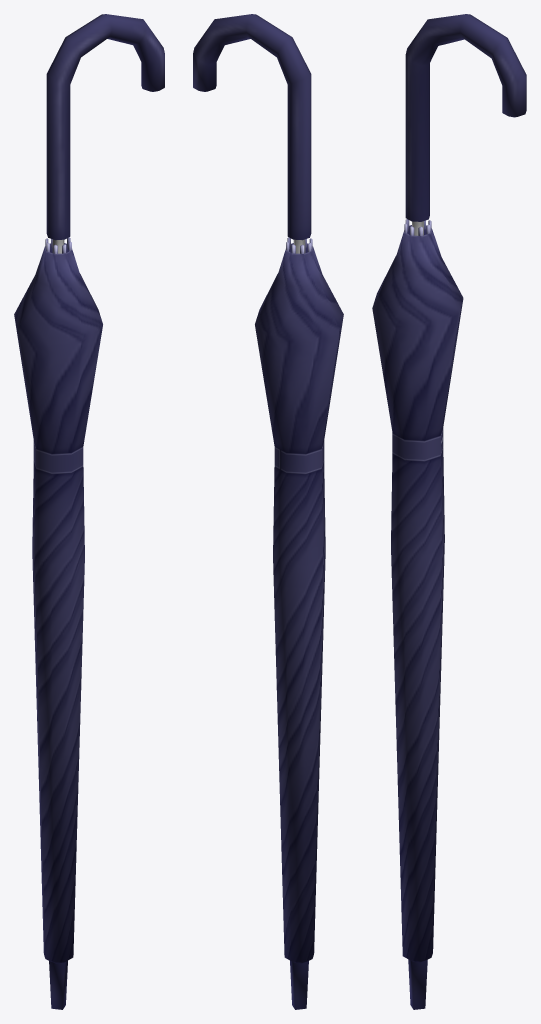
The model's file is set_umbrella_13.fbx.
3 renders of one model, left to right at view 1: azimuth 30°, elevation 25°; view 2: azimuth 150°, elevation 25°; view 3: azimuth 330°, elevation 25°, orthographic. The views are drawn at different scales.
Parts seen in each view (by area): view 1: set_umbrella_13; view 2: set_umbrella_13; view 3: set_umbrella_13.
Boxes of the visible parts, <box> form: set_umbrella_13: <box>14,14,164,1009</box>; set_umbrella_13: <box>193,14,343,1009</box>; set_umbrella_13: <box>372,14,526,1009</box>.
Bounding box in the file's own units: 12.79 × 82.9 × 7.05.
